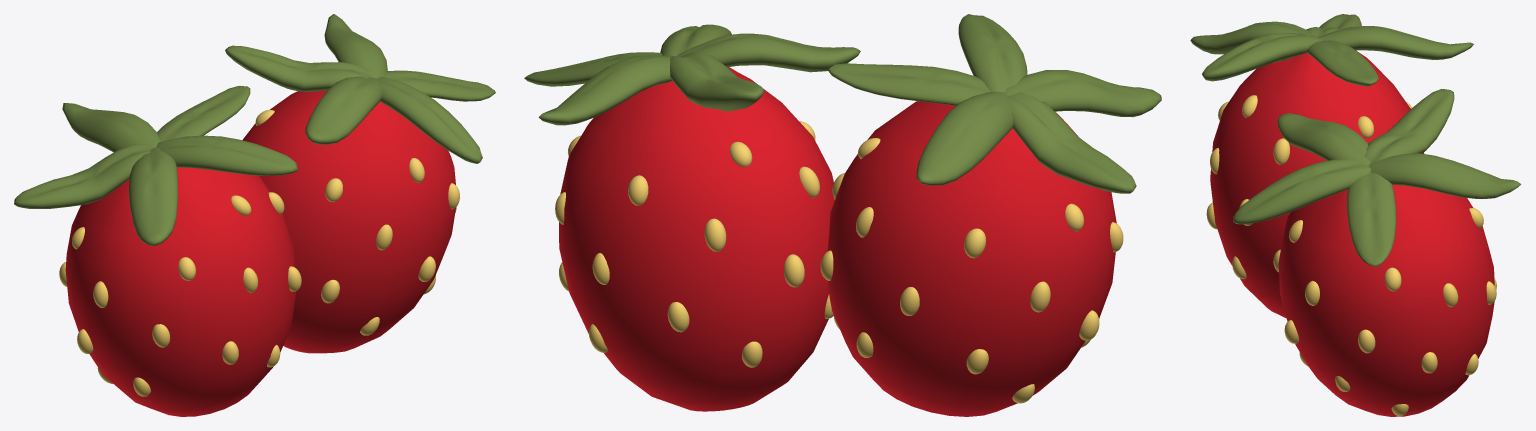
The model's file is Item_Berry.fbx.
3 renders of one model, left to right at view 1: azimuth 30°, elevation 25°; view 2: azimuth 150°, elevation 25°; view 3: azimuth 270°, elevation 25°, orthographic. The views are drawn at different scales.
Parts seen in each view (by area): view 1: Day_Berry.001; view 2: Day_Berry.001; view 3: Day_Berry.001.
Boxes of the visible parts, <box> form: Day_Berry.001: <box>14,14,495,416</box>; Day_Berry.001: <box>524,14,1161,416</box>; Day_Berry.001: <box>1190,14,1521,416</box>.
Size of the model in its own units: 51.35 by 29.24 by 30.65.
